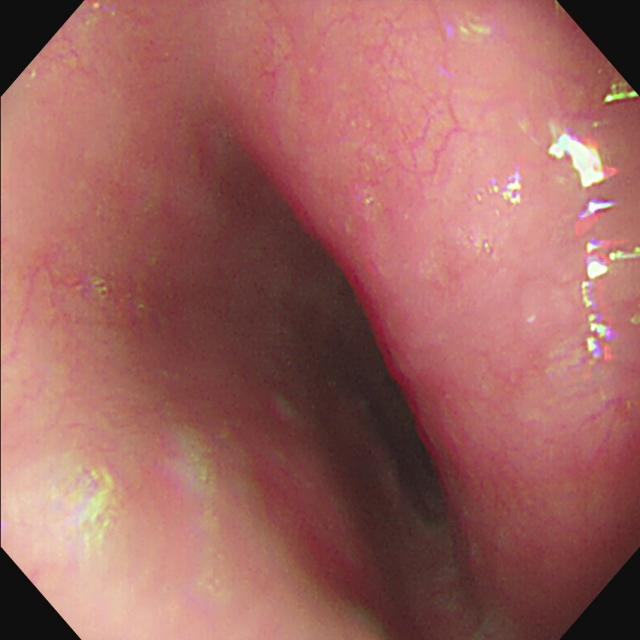E: (377, 379, 448, 504)
U: (581, 242, 640, 363), (549, 135, 622, 187), (575, 201, 614, 234), (489, 175, 525, 206)
